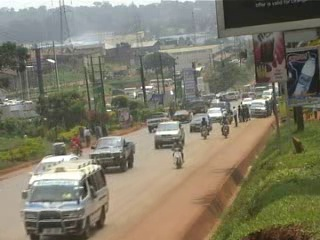Car: (27, 152, 81, 194), (151, 120, 188, 149), (187, 111, 212, 136), (170, 109, 196, 124), (203, 107, 224, 122), (206, 96, 221, 110)
Motorcycle: (168, 139, 185, 169), (68, 131, 85, 156), (219, 115, 233, 137), (51, 138, 67, 157), (198, 117, 212, 138), (223, 107, 234, 124)
